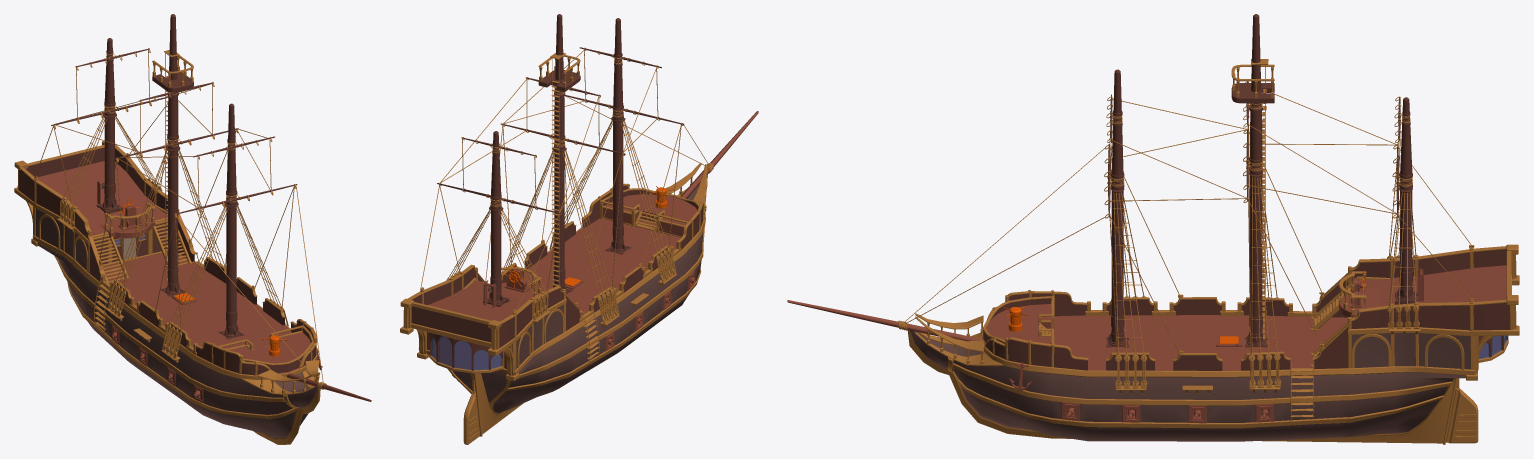
File: ship.fbx
3 renders of one model, left to right at view 1: azimuth 30°, elevation 25°; view 2: azimuth 150°, elevation 25°; view 3: azimuth 270°, elevation 25°, orthographic. The views are drawn at different scales.
Parts seen in each view (by area): view 1: planches_cordages, murs_mats, sol_trappe_gouvernail, coque; view 2: planches_cordages, murs_mats, sol_trappe_gouvernail, coque, vitre_fini; view 3: planches_cordages, coque, murs_mats, sol_trappe_gouvernail.
Boxes of the visible parts, left/top/right/bottom form: planches_cordages: left=14, top=48, right=326, bottom=444; murs_mats: left=19, top=14, right=315, bottom=375; sol_trappe_gouvernail: left=38, top=161, right=371, bottom=403; coque: left=36, top=208, right=317, bottom=438; planches_cordages: left=400, top=47, right=713, bottom=444; murs_mats: left=411, top=14, right=703, bottom=370; sol_trappe_gouvernail: left=428, top=111, right=758, bottom=369; coque: left=429, top=175, right=707, bottom=413; vitre_fini: left=431, top=336, right=501, bottom=370; planches_cordages: left=898, top=58, right=1519, bottom=444; coque: left=910, top=330, right=1470, bottom=441; murs_mats: left=983, top=14, right=1510, bottom=370; sol_trappe_gouvernail: left=787, top=265, right=1506, bottom=423.
Bounding box in the file's own units: 1000 × 2783 × 4303.
